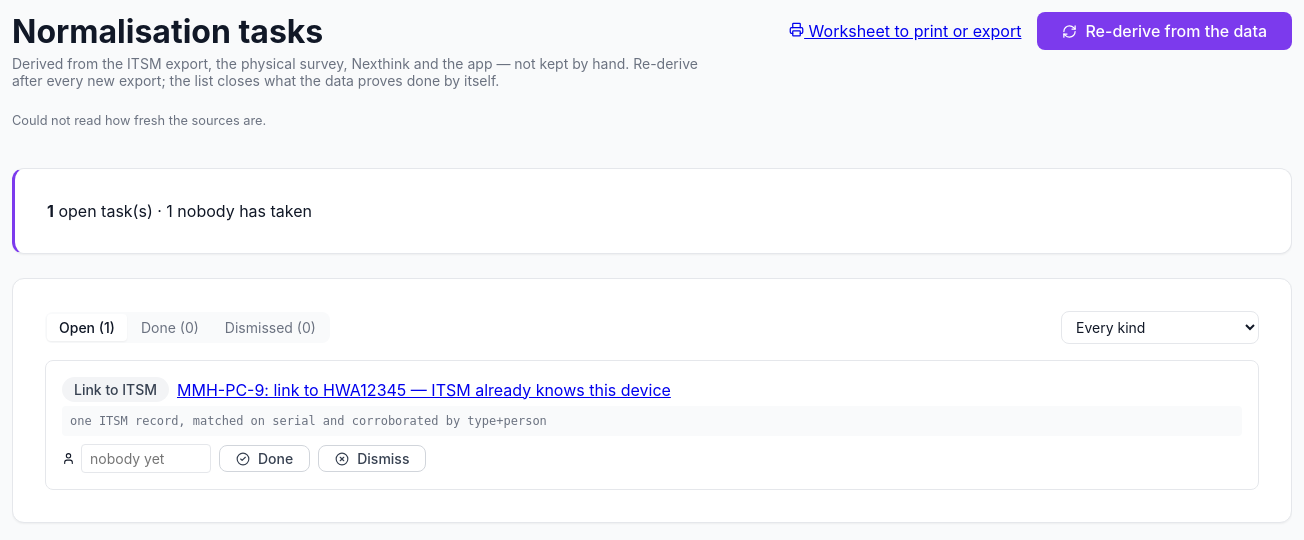
Test: NormalisationTasks › will not dismiss until a reason is typed
Click the button "Dismiss".
click(372, 458)  # box [318,445,426,472]
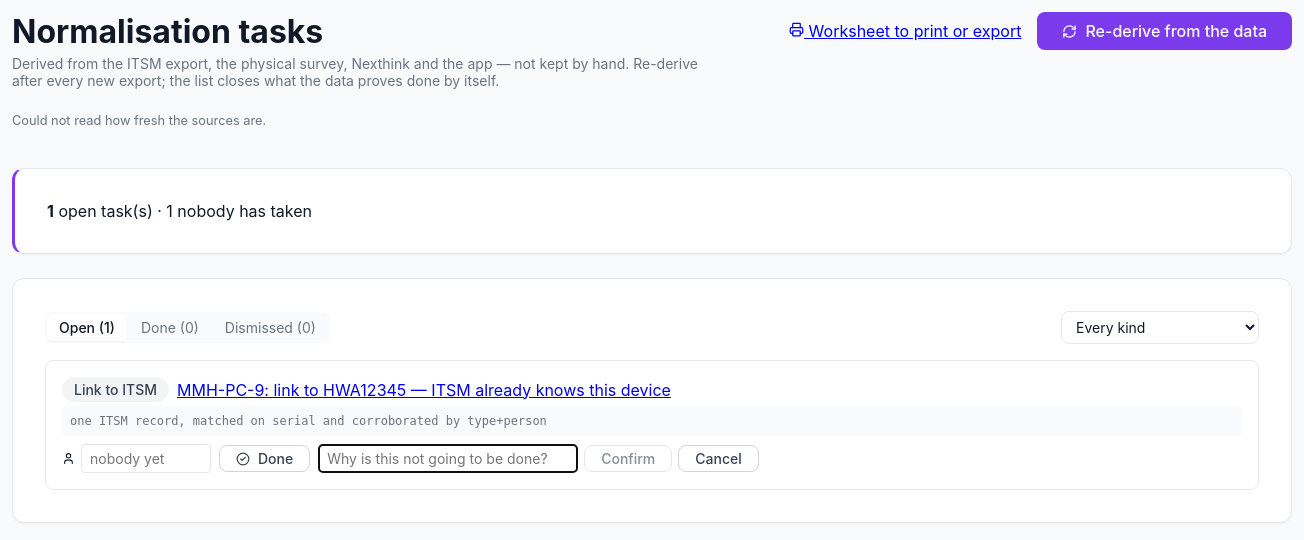
Now the button "Confirm" is disabled, box [584,445,672,472]
Type "being scrapped next week" into the field named "Reason for dismissing".
click(448, 458); type("being scrapped next week")  # box [318,444,578,473]
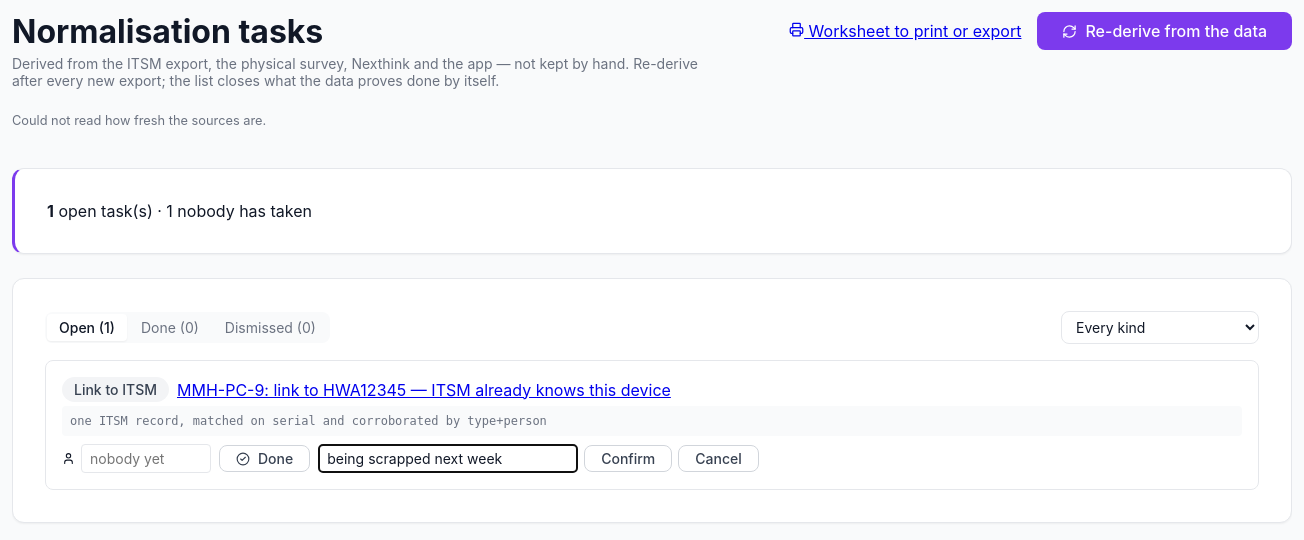
Now the button "Confirm" is enabled, box [584,445,672,472]
